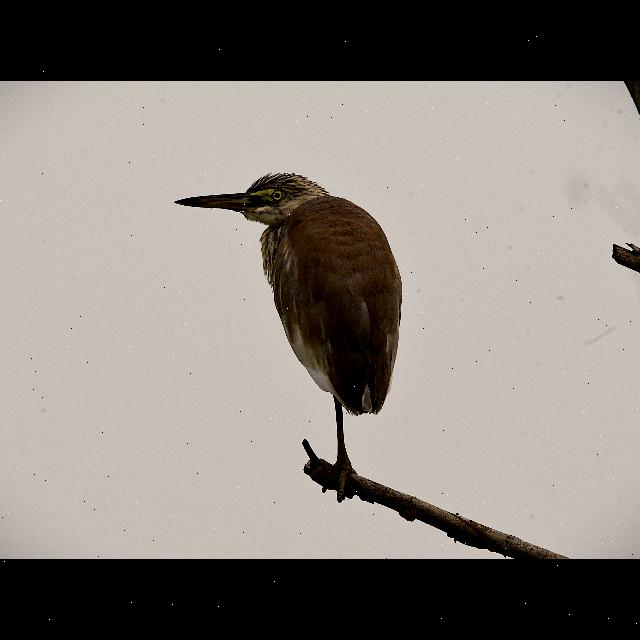heron: (171, 170, 415, 504)
